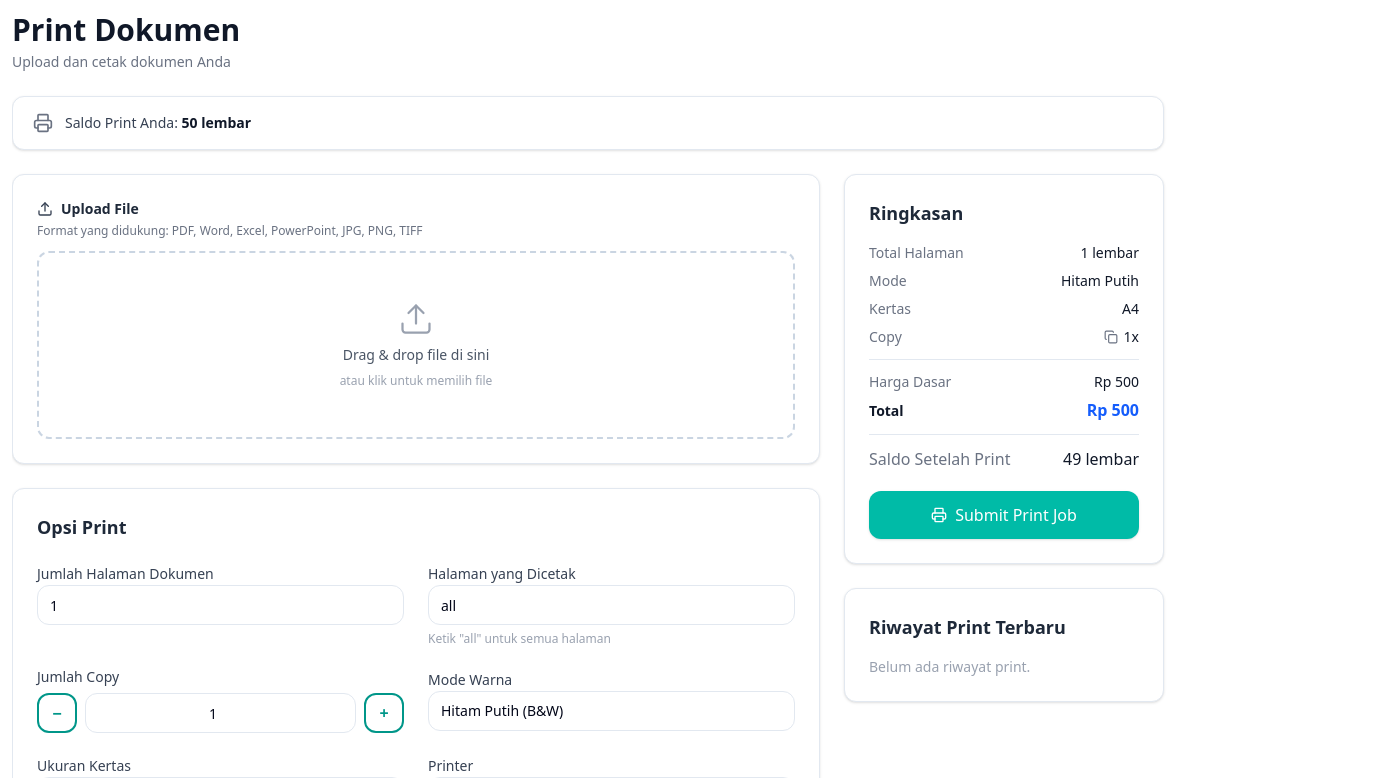
PrintClient (AC-0239 / AC-0240) › AC-0240: submit + error surface › AC-0240: on INSUFFICIENT_BALANCE rejection, shows Indonesian error message
Click the button "Submit Print Job" at (1004, 515), box [869, 491, 1139, 539]
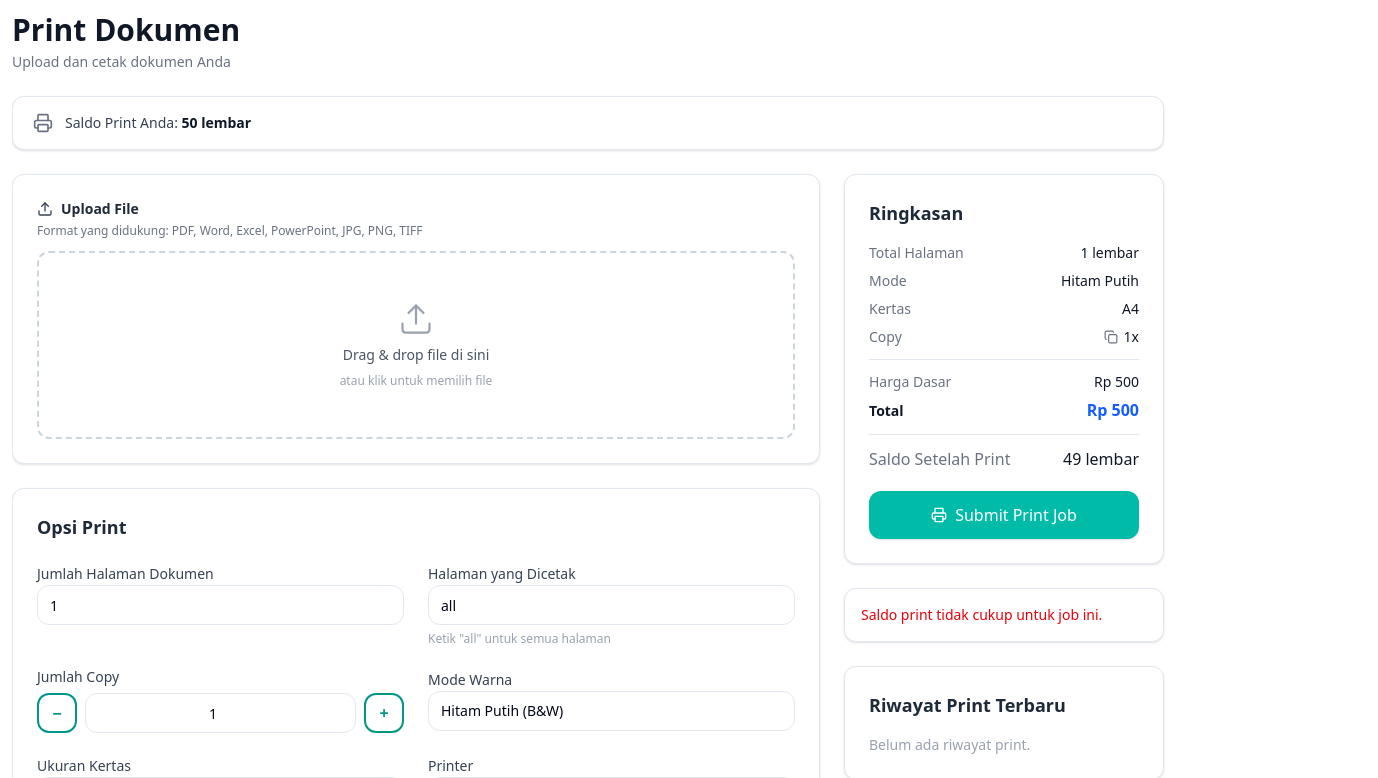
Now the text "Saldo print tidak cukup untuk job ini." is shown, box [861, 605, 1102, 624]
